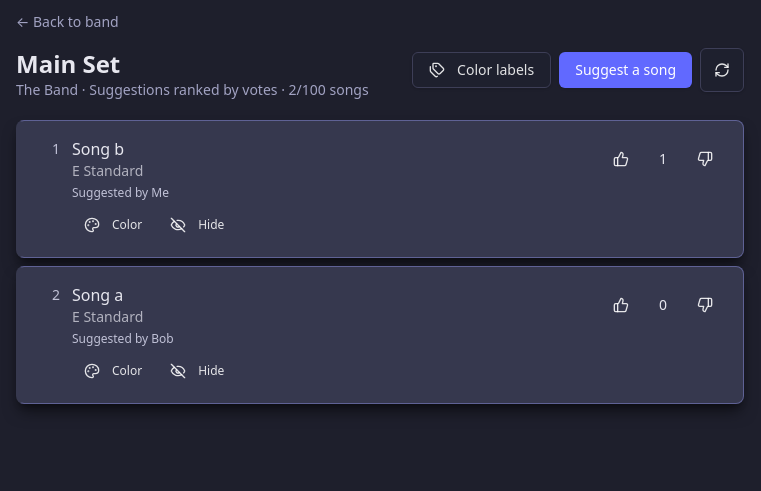
Scenario: SetListPage › a failed hide shows the error and STILL reloads, so nothing half-applied stays on screen
The width and height of the screenshot is (761, 491).
Expected: the text "Song b" is shown, [72,138,124,160]
Click the button with aria-label "Hide Song b".
click(197, 225)  # box [158,209,236,241]
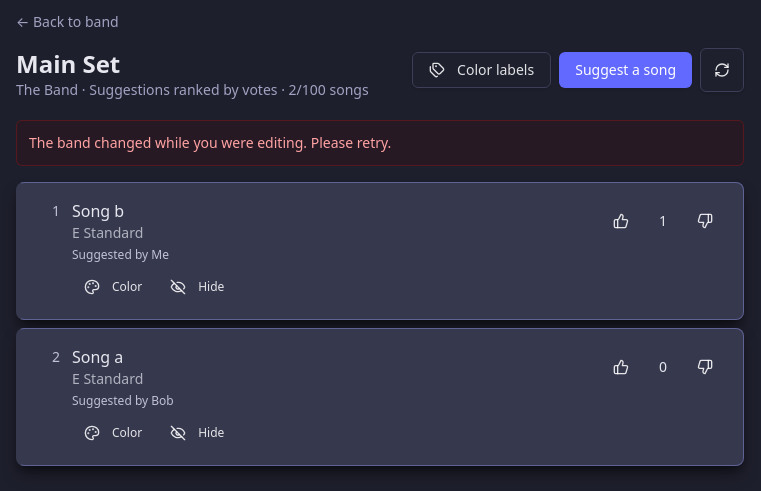
Result: the message "The band changed while you were editing. Please retry." is shown at [16,120,744,166]
